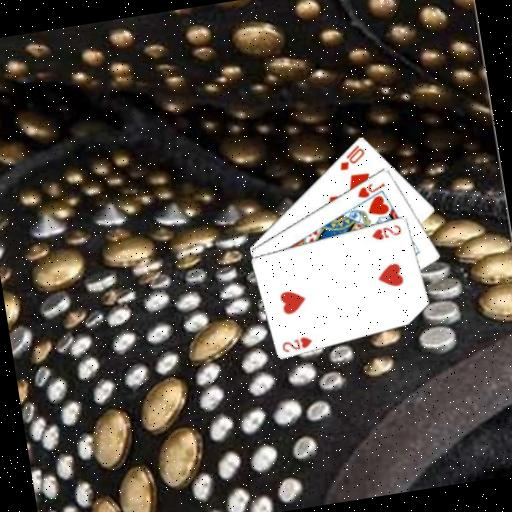10D: (333, 140, 368, 172)
2H: (278, 332, 315, 354), (367, 220, 403, 242)
JH: (353, 178, 388, 201)
